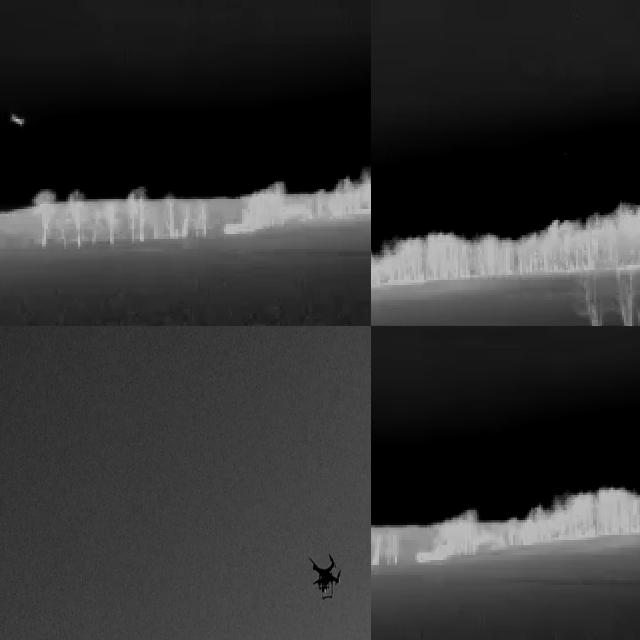0: (545, 145, 575, 173)
1: (0, 104, 38, 144)
drone: (309, 548, 346, 600)
